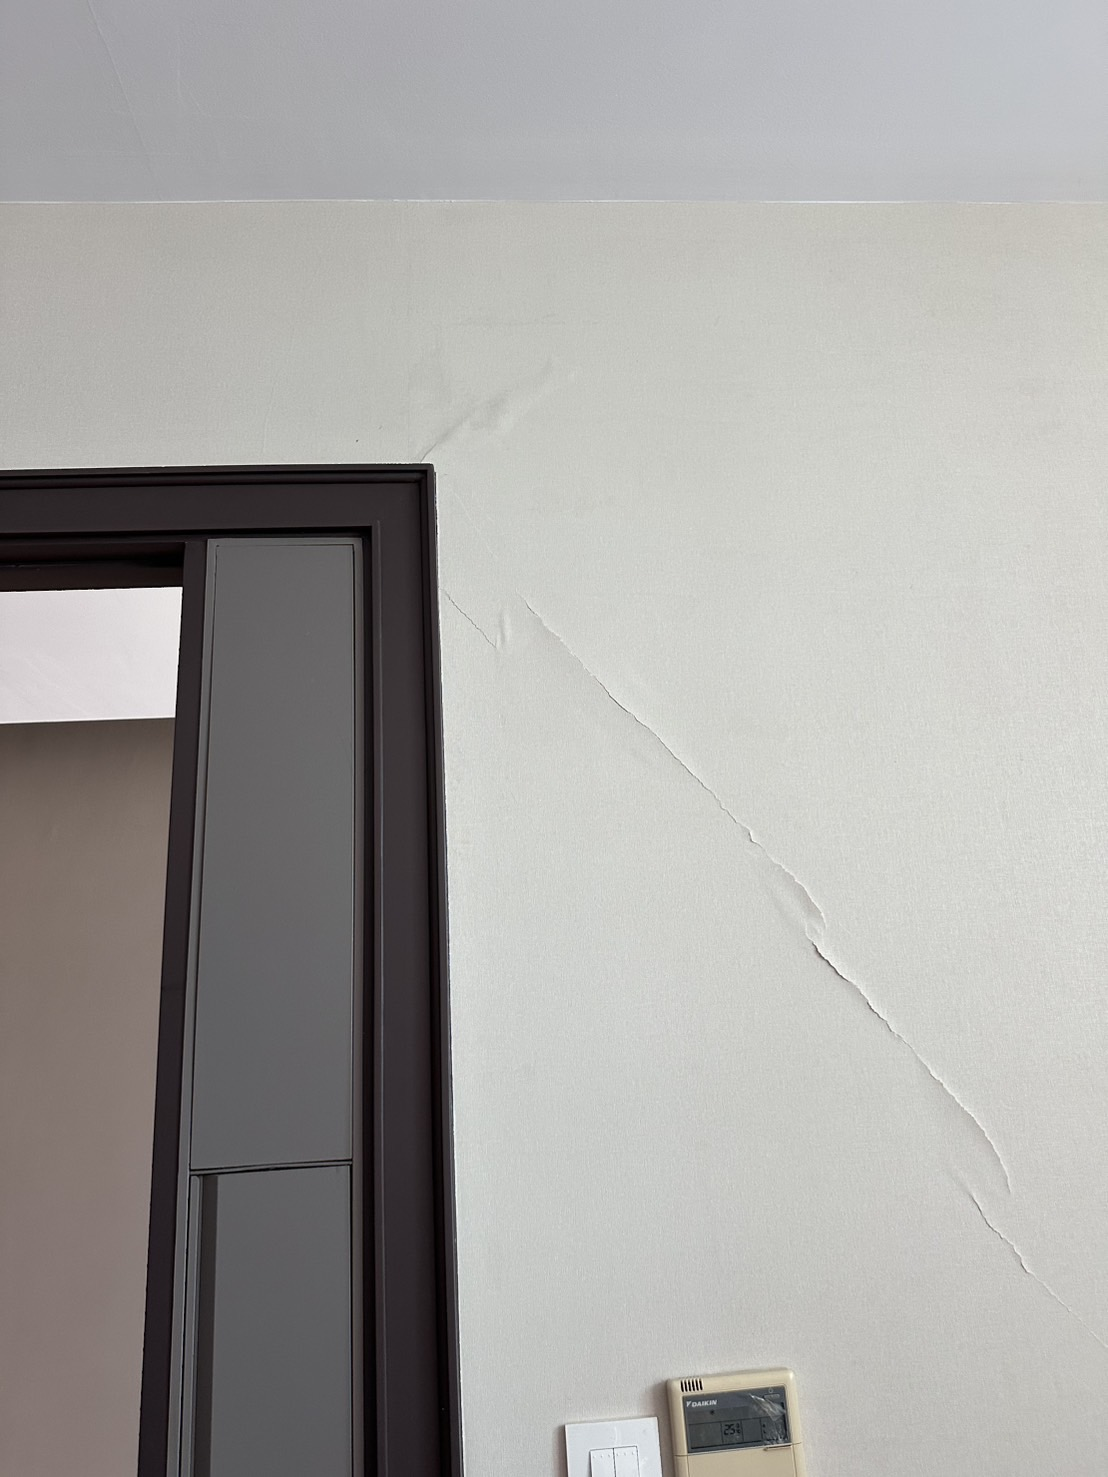Low: (459, 561, 1088, 1391)
